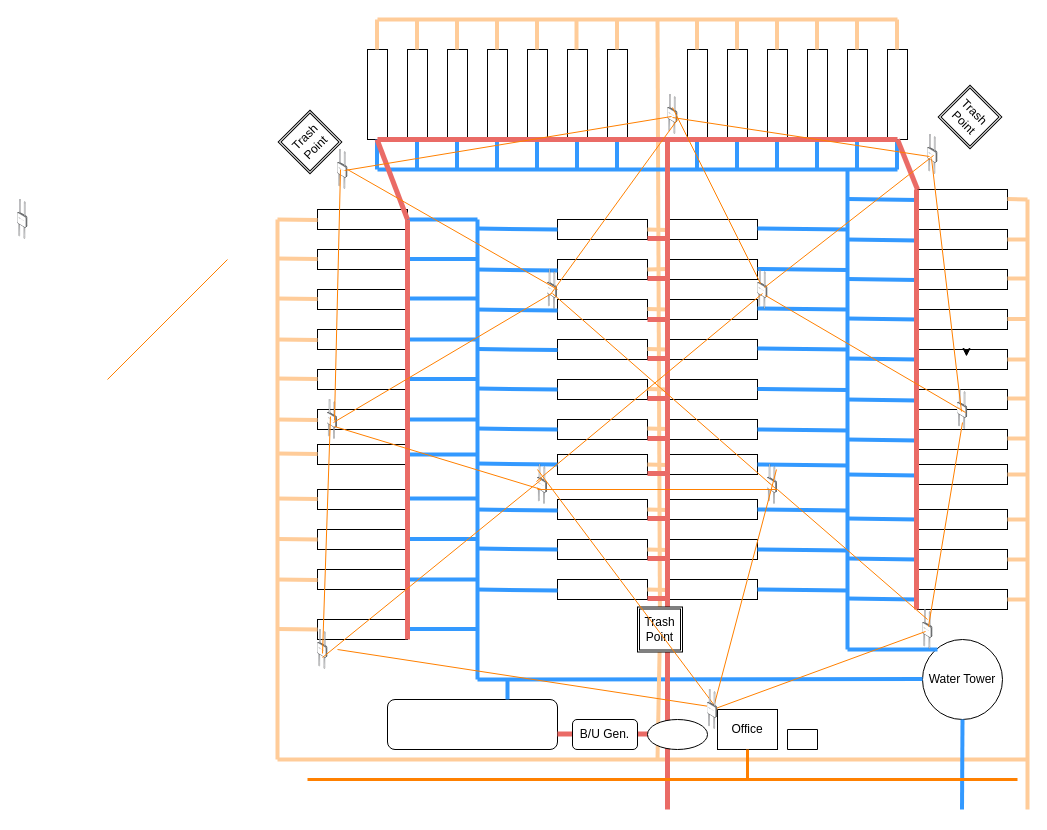
Image size: 1047x830. Some labels were removed from this diagram. The centre of each missing label's shape, as x and y in pixels:
"Mail" belongs at point (802, 739).
"Propane" belongs at point (677, 734).
"Showers/Toilets/Laundry" belongs at point (472, 724).
